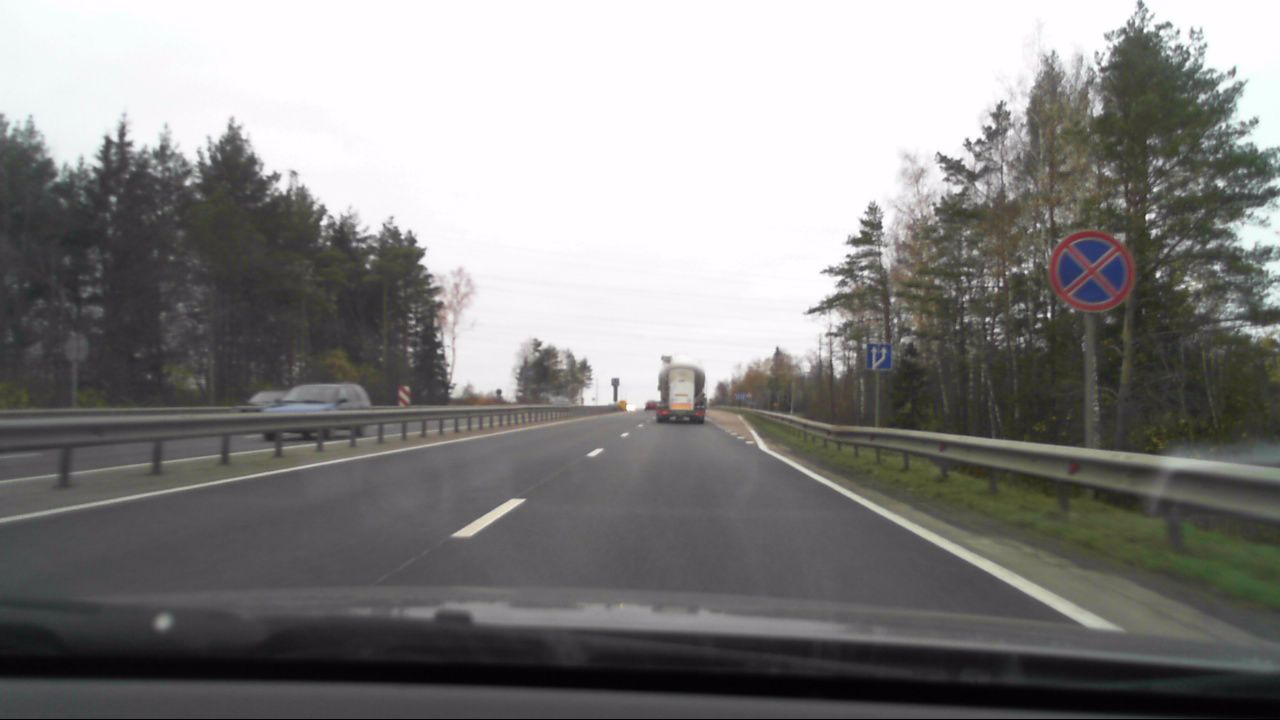No Parking: (1044, 228, 1136, 318)
